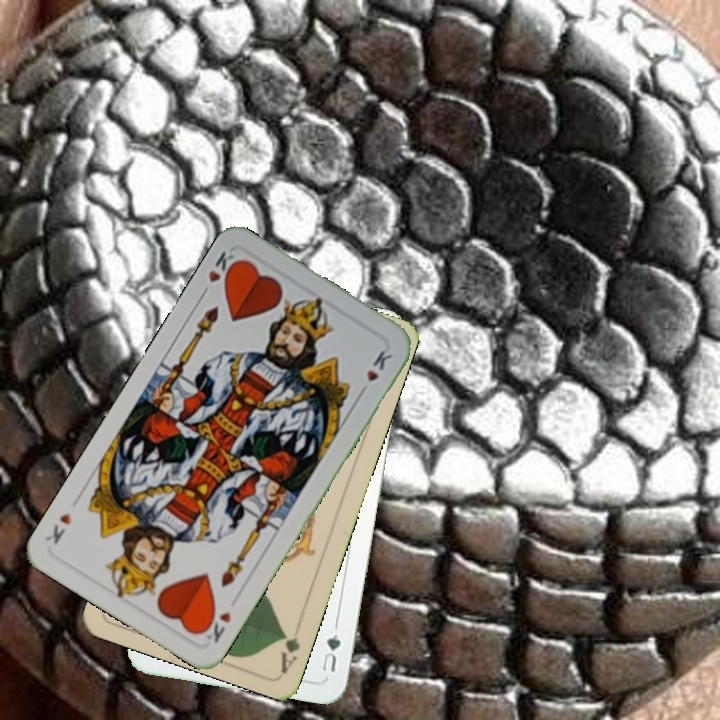GA: (276, 627, 303, 675)
GU: (318, 630, 343, 674)
HK: (196, 246, 243, 300), (196, 605, 234, 646)
